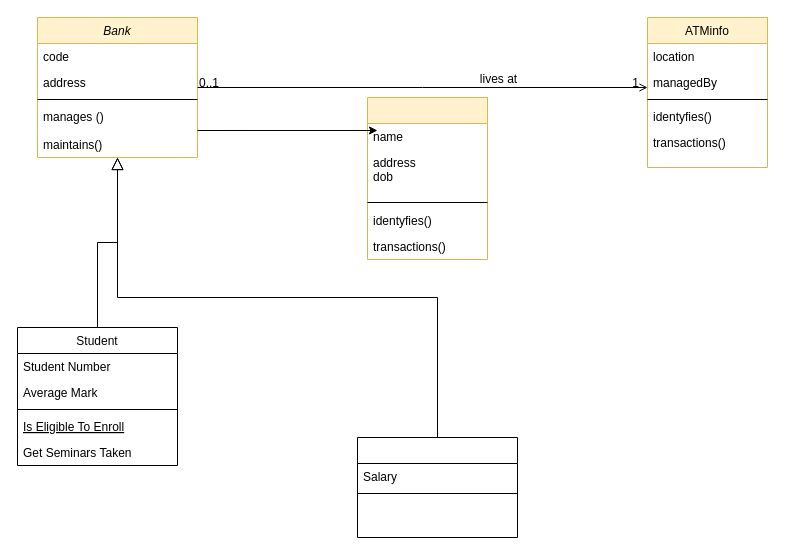
Image size: 785x555. Some labels were removed from this diagram. Each missing label, with the box of its shape:
Customer: (366, 96, 488, 260)
Professor: (356, 436, 518, 538)
